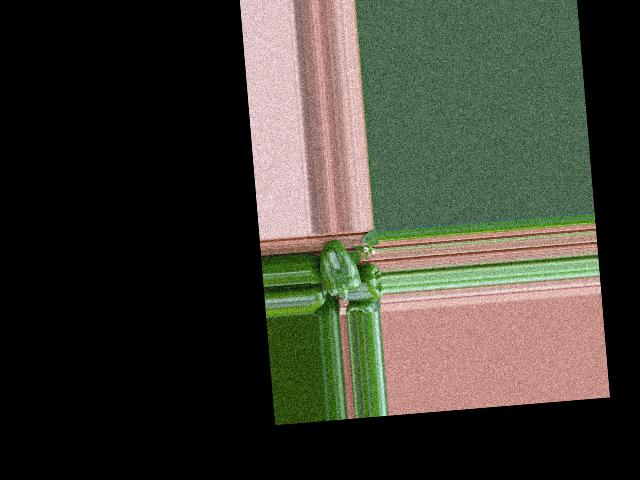bell_pepper: (310, 287, 330, 314)
